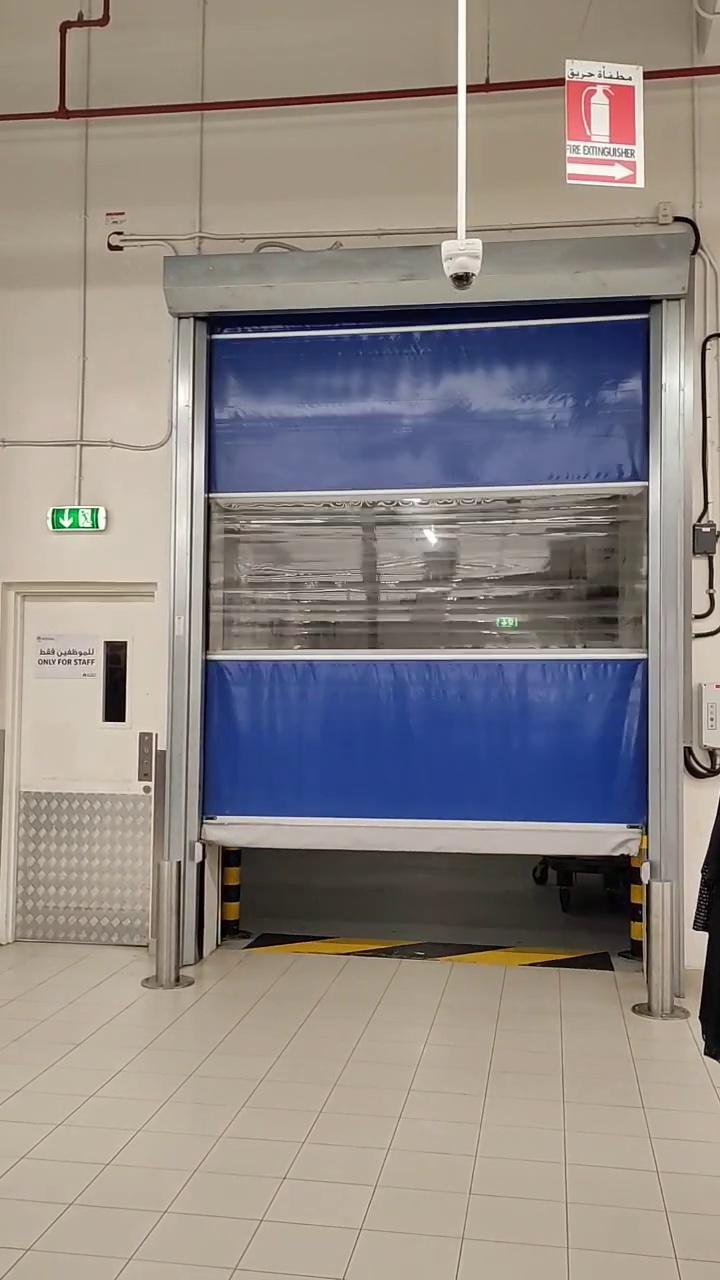Strip: (248, 928, 615, 973)
